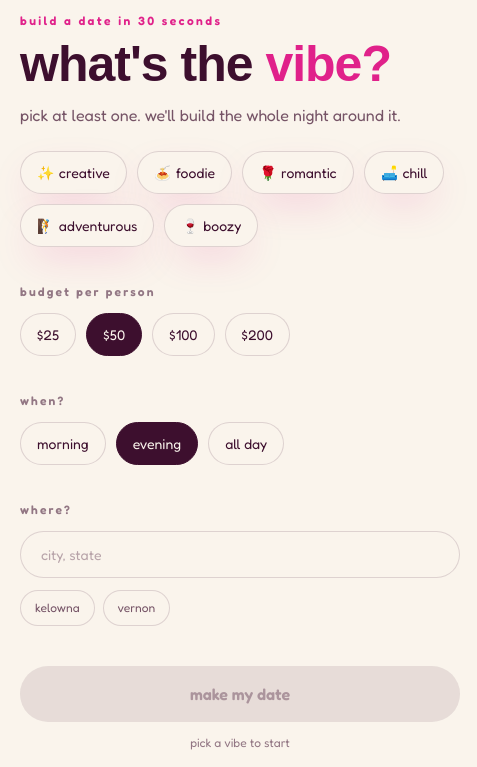
Test: CreateFlow city selector › free-typed non-curated city does not POST and still enables generate
Click the button "✨creative": (73, 172) [20,150,127,194]
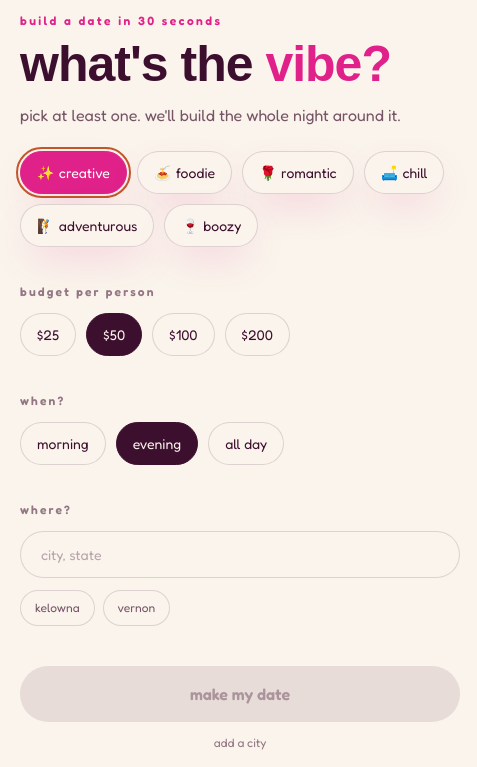
In the field labelled "city": (240, 554) [20,530,460,578], type "Saskatoon"
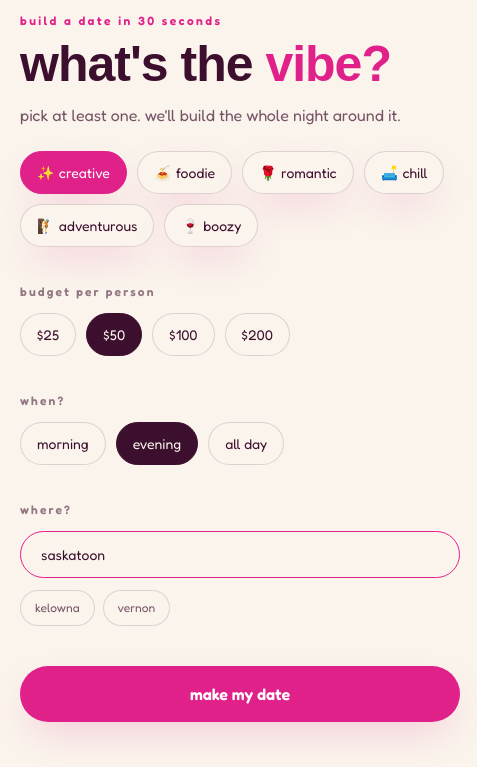
Expected: the button "make my date" is enabled, [20,666,460,722]
